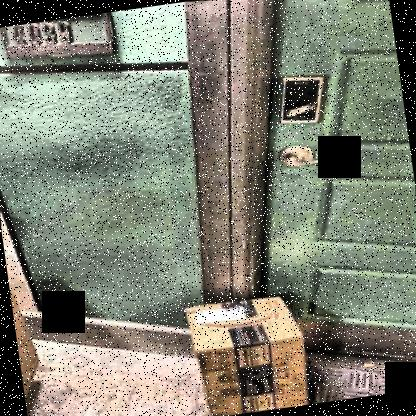no defect parcel: (172, 271, 324, 416)
